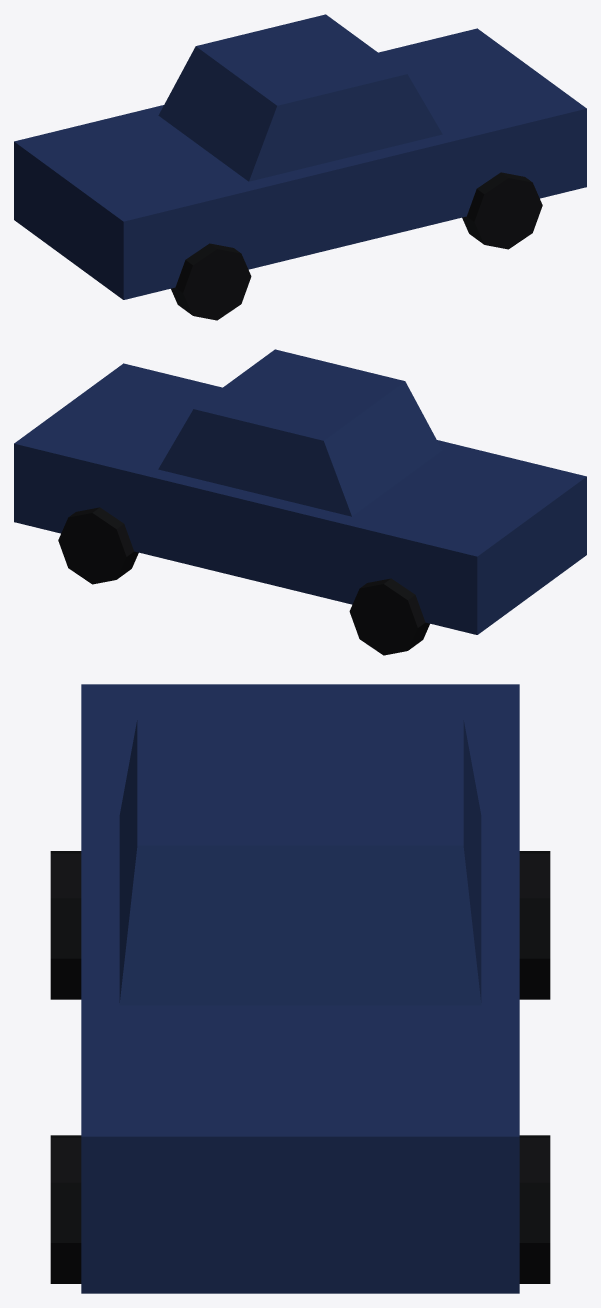
File: proxy_sedan_blue.dae
3 views of the same model, one above another, from view 1: azimuth 30°, elevation 25°; view 2: azimuth 150°, elevation 25°; view 3: azimuth 270°, elevation 25° (orthographic). The views are drawn at different scales.
Visible parts, largest first — view 1: proxy_sedan; view 2: proxy_sedan; view 3: proxy_sedan.
Boxes of the visible parts, bbox=[...] form: proxy_sedan: bbox=[14, 14, 586, 320]; proxy_sedan: bbox=[14, 349, 586, 655]; proxy_sedan: bbox=[50, 684, 550, 1293].
Size of the model in its own units: 4.2 by 1.96 by 1.55.
